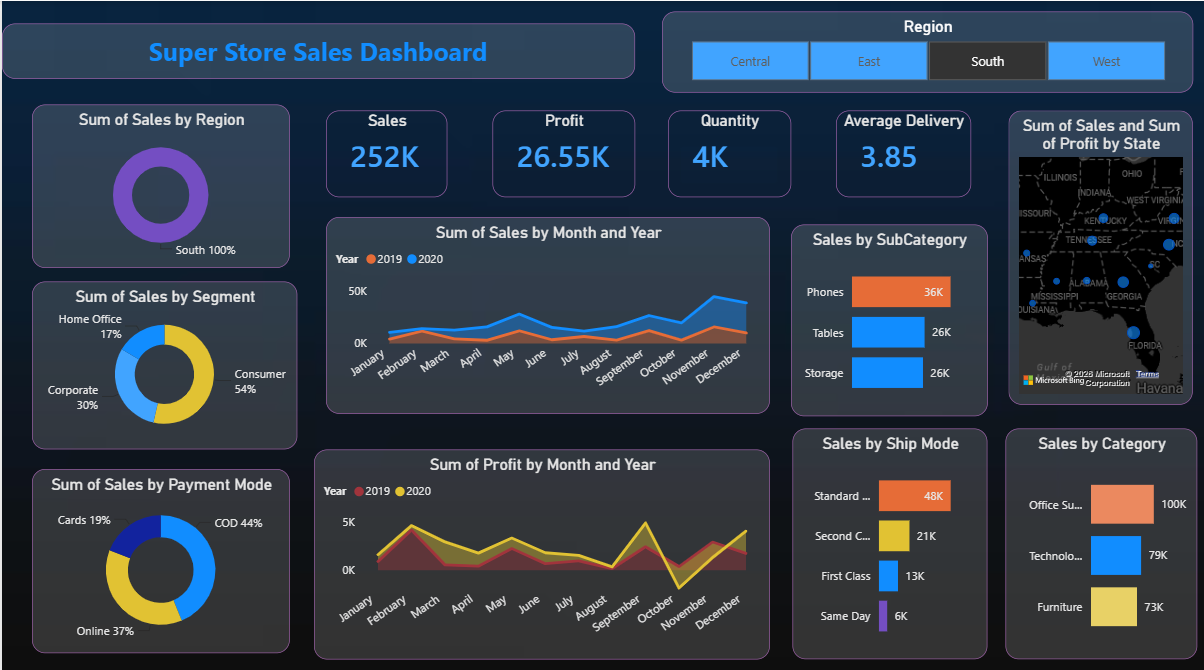

What the dashboard file says about the page in this screenshot:
{"tool":"powerbi","page":{"name":"Page 1","canvas":[1280,720],"ordinal":0},"visuals":[{"type":"clusteredBarChart","title":"Sales by Category","fields":{"Category":["Sheet1.Category"],"Y":["Sum(Sheet1.Sales)"]},"box":[1064.1,453.3,203.6,245],"z":0},{"type":"clusteredBarChart","title":"Sales by SubCategory","fields":{"Category":["Sheet1.Sub-Category"],"Y":["Sum(Sheet1.Sales)"]},"box":[836.7,237,208.4,203.6],"z":1000},{"type":"clusteredBarChart","title":"Sales by Ship Mode","fields":{"Category":["Sheet1.Ship Mode"],"Y":["Sum(Sheet1.Sales)"]},"box":[838.3,453.3,206.8,245],"z":2000},{"type":"stackedAreaChart","fields":{"Category":["Sheet1.Order Date.Variation.Date Hierarchy.Month","Sheet1.Order Date.Variation.Date Hierarchy.Day"],"Y":["Sum(Sheet1.Sales)"],"Series":["Sheet1.Order Date.Variation.Date Hierarchy.Year"]},"box":[343.6,229,470.8,208.4],"z":3000},{"type":"stackedAreaChart","fields":{"Category":["Sheet1.Order Date.Variation.Date Hierarchy.Month","Sheet1.Order Date.Variation.Date Hierarchy.Day"],"Series":["Sheet1.Order Date.Variation.Date Hierarchy.Year"],"Y":["Sum(Sheet1.Profit)"]},"box":[330.8,475.6,483.5,222.7],"z":4000},{"type":"map","fields":{"Category":["Sheet1.State"],"Size":["Sum(Sheet1.Sales)"]},"box":[1067.3,116.1,195.6,311.8],"z":5000},{"type":"donutChart","fields":{"Y":["Sum(Sheet1.Sales)"],"Category":["Sheet1.Segment"]},"box":[31.8,297.4,281.5,178.1],"z":6000},{"type":"donutChart","fields":{"Y":["Sum(Sheet1.Sales)"],"Category":["Sheet1.Payment Mode"]},"box":[31.8,496.3,273.6,195.6],"z":7000},{"type":"slicer","title":"Region","fields":{"Values":["Sheet1.Region"]},"box":[699.9,11.1,563.1,85.9],"z":8000},{"type":"textbox","box":[0,23.9,671.2,58.9],"z":9000},{"type":"cardVisual","title":"Sales","fields":{"Data":["Sum(Sheet1.Sales)"]},"box":[343.6,116.1,128.8,92.3],"z":10000},{"type":"cardVisual","title":"Profit","fields":{"Data":["Sum(Sheet1.Profit)"]},"box":[520.1,116.1,151.1,92.3],"z":11000},{"type":"cardVisual","title":"Quantity","fields":{"Data":["Sum(Sheet1.Quantity)"]},"box":[706.2,116.1,130.4,92.3],"z":12000},{"type":"cardVisual","title":"Average Delivery","fields":{"Data":["Avg(Sheet1.avgdelivery)"]},"box":[884.4,116.1,143.2,92.3],"z":13000},{"type":"donutChart","fields":{"Y":["Sum(Sheet1.Sales)"],"Category":["Sheet1.Region"]},"box":[31.8,109.8,273.6,173.4],"z":14000}]}

Visuals, with their boxes in screenshot pixels (x1, y1, x2, y2), scaled from the page's 1280x720 canvas onto the 1204x670 screenshot:
"Sales by Category" clusteredBarChart: x1=1001 y1=422 x2=1192 y2=650
"Sales by SubCategory" clusteredBarChart: x1=787 y1=221 x2=983 y2=410
"Sales by Ship Mode" clusteredBarChart: x1=789 y1=422 x2=983 y2=650
stackedAreaChart - Sheet1.Order Date.Variation.Date Hierarchy.Month x Sheet1.Order Date.Variation.Date Hierarchy.Day: x1=323 y1=213 x2=766 y2=407
stackedAreaChart - Sheet1.Order Date.Variation.Date Hierarchy.Month x Sheet1.Order Date.Variation.Date Hierarchy.Day: x1=311 y1=443 x2=766 y2=650
map - Sheet1.State x Sum(Sheet1.Sales): x1=1004 y1=108 x2=1188 y2=398
donutChart - Sum(Sheet1.Sales) x Sheet1.Segment: x1=30 y1=277 x2=295 y2=442
donutChart - Sum(Sheet1.Sales) x Sheet1.Payment Mode: x1=30 y1=462 x2=287 y2=644
"Region" slicer: x1=658 y1=10 x2=1188 y2=90
textbox: x1=0 y1=22 x2=631 y2=77
"Sales" cardVisual: x1=323 y1=108 x2=444 y2=194
"Profit" cardVisual: x1=489 y1=108 x2=631 y2=194
"Quantity" cardVisual: x1=664 y1=108 x2=787 y2=194
"Average Delivery" cardVisual: x1=832 y1=108 x2=967 y2=194
donutChart - Sum(Sheet1.Sales) x Sheet1.Region: x1=30 y1=102 x2=287 y2=264
